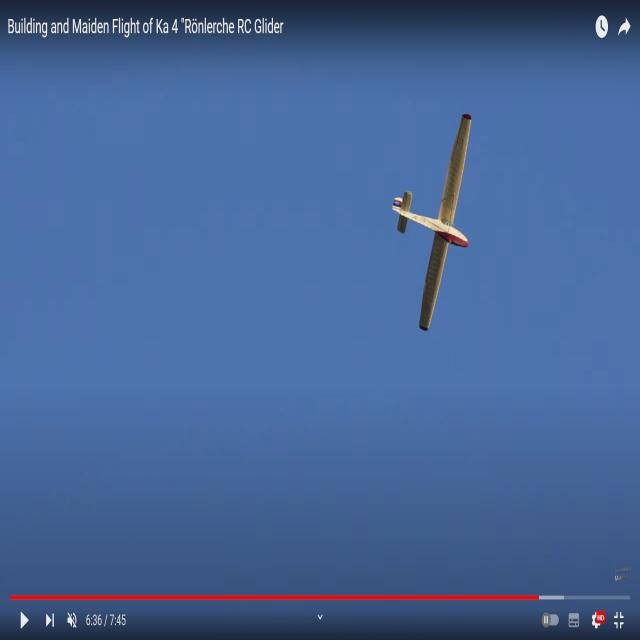iha: (424, 117, 446, 329)
